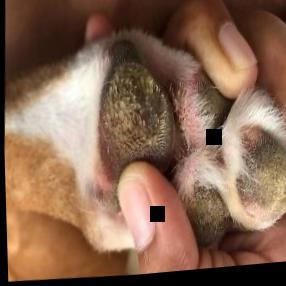keratosis: (90, 37, 179, 169)
